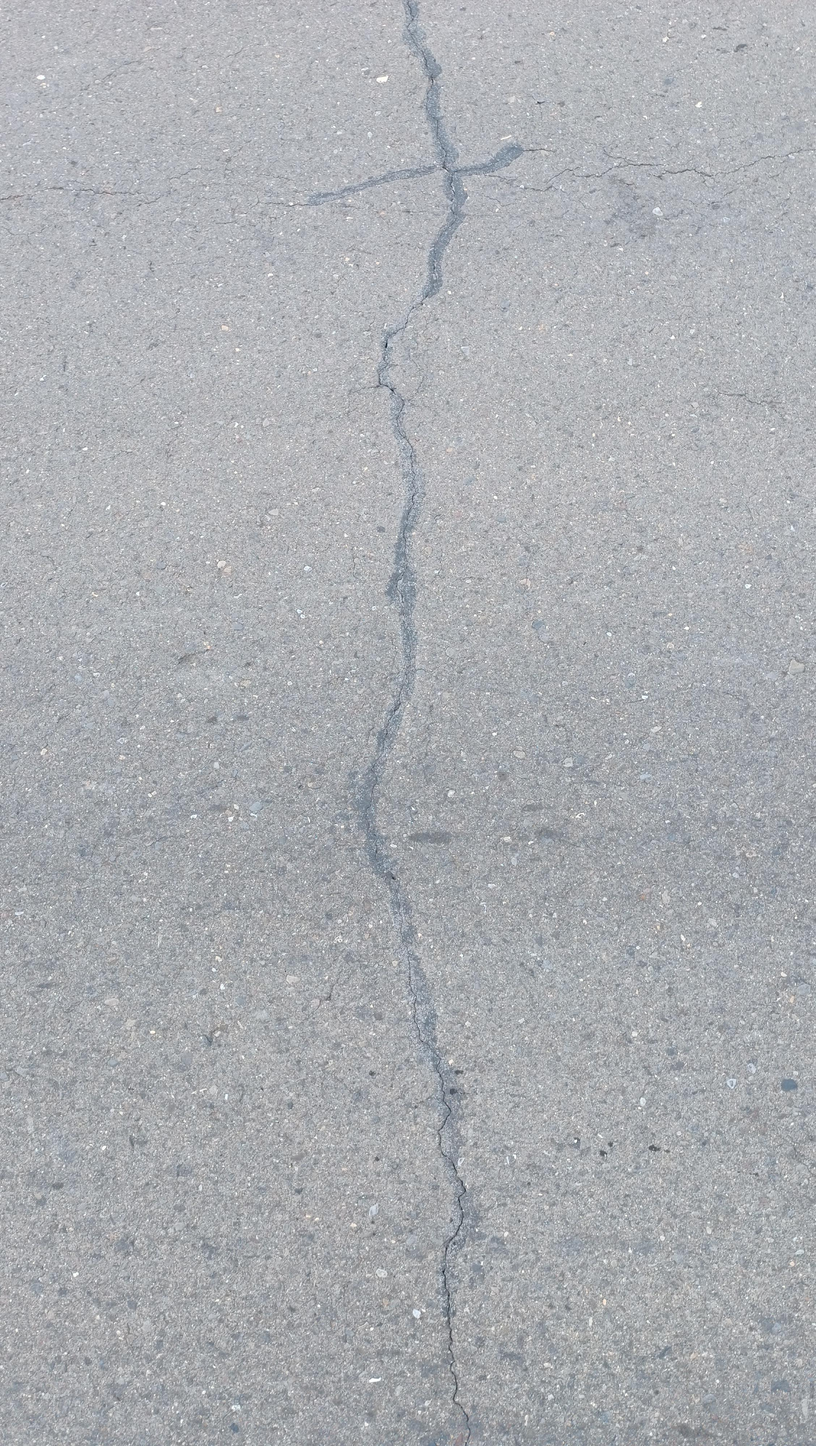GRIETA: (378, 302, 424, 607), (365, 684, 406, 881), (442, 1268, 471, 1446), (405, 19, 438, 121), (433, 177, 460, 282), (441, 1150, 466, 1253), (454, 146, 514, 173), (409, 967, 428, 1045), (435, 1061, 452, 1146), (395, 895, 411, 965), (435, 123, 456, 176), (401, 610, 412, 683)
PIEL DE COCODRILO: (13, 158, 359, 254), (502, 142, 752, 237)
